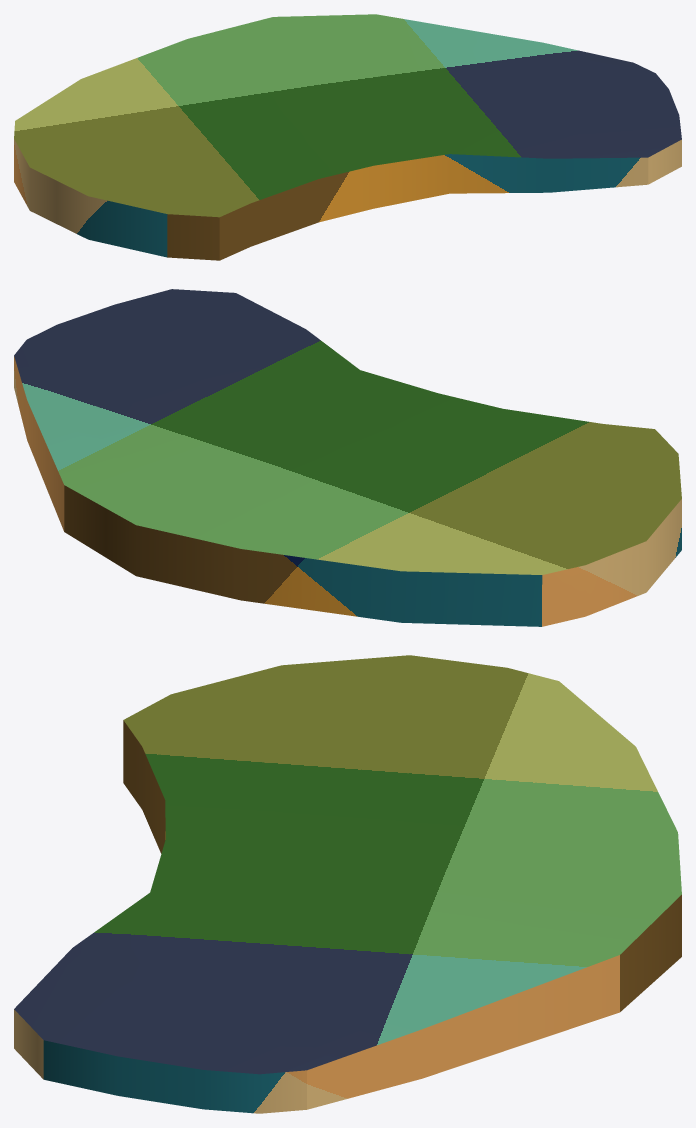
File: Wall v4 Base.fbx
3 views of the same model, one above another, from view 1: azimuth 30°, elevation 25°; view 2: azimuth 150°, elevation 25°; view 3: azimuth 270°, elevation 25° (orthographic). The views are drawn at different scales.
Parts seen in each view (by area): view 1: polySurface32; view 2: polySurface32; view 3: polySurface32.
Boxes of the visible parts, x1,y1,x2,y2 form: polySurface32: (14,14,681,260); polySurface32: (14,289,681,626); polySurface32: (14,655,681,1113).
Size of the model in its own units: 1305 by 94.27 by 904.
